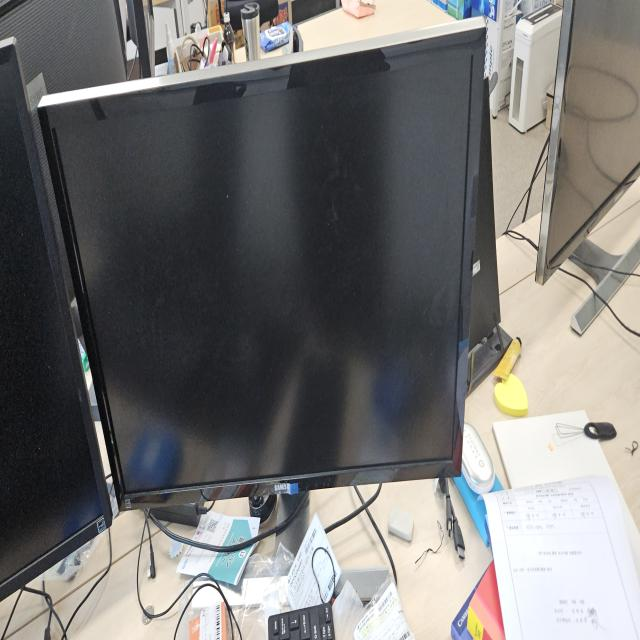Keyboard: (266, 599, 336, 638)
Monitor: (36, 18, 494, 526)
